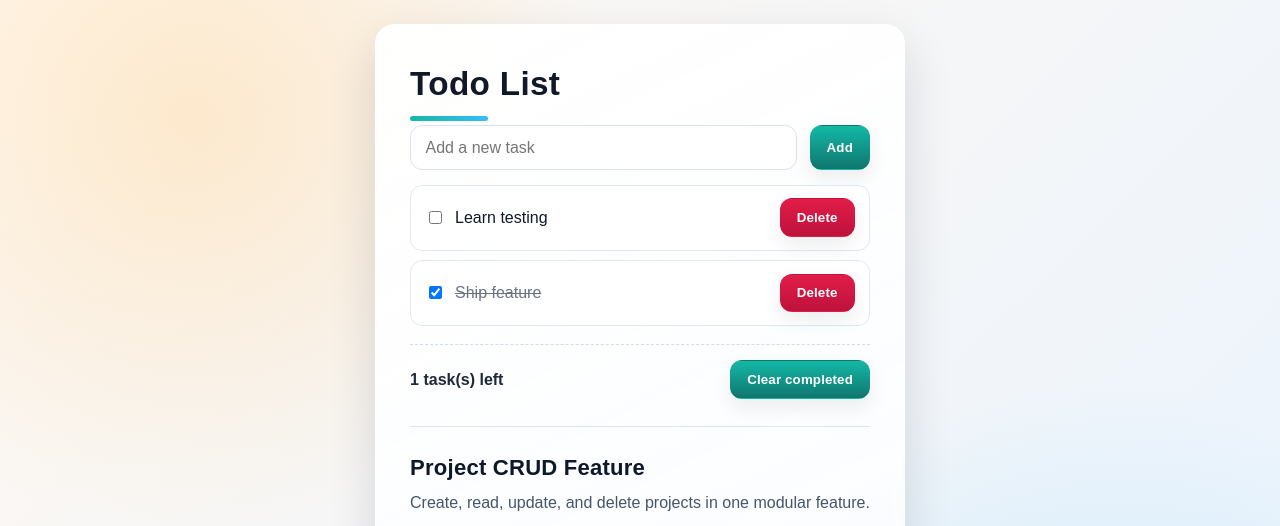
Scenario: App › validates minimum length
Expected: the text "Learn testing" is shown, left=455, top=206, right=548, bottom=230
Type "ab" into the field labelled "Add a new task" at (604, 148), box left=410, top=126, right=797, bottom=170
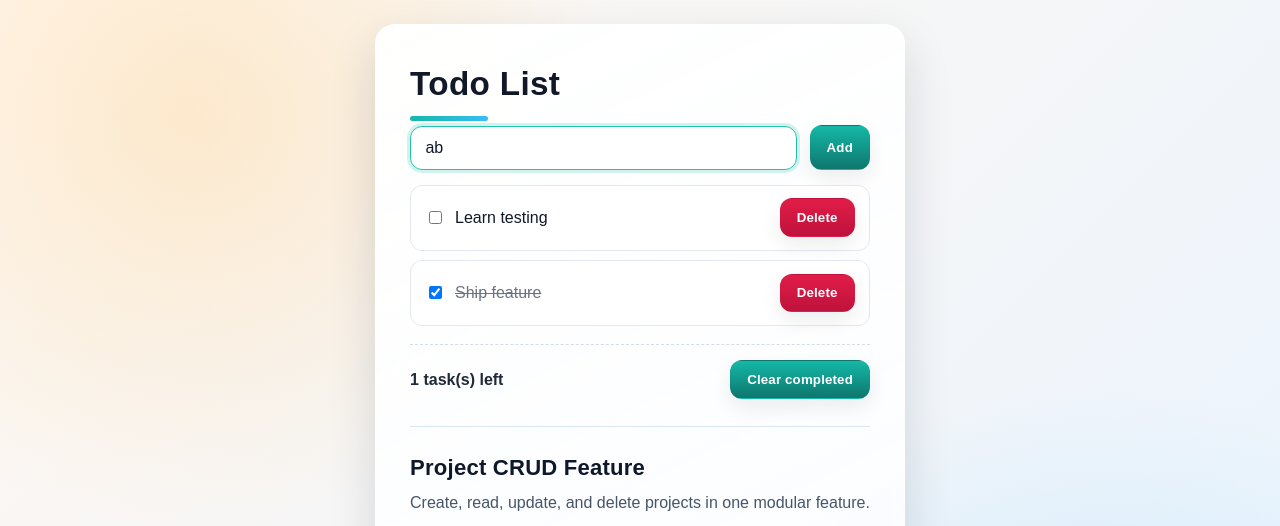
Click the button "Add" at (840, 148), box left=810, top=126, right=870, bottom=170
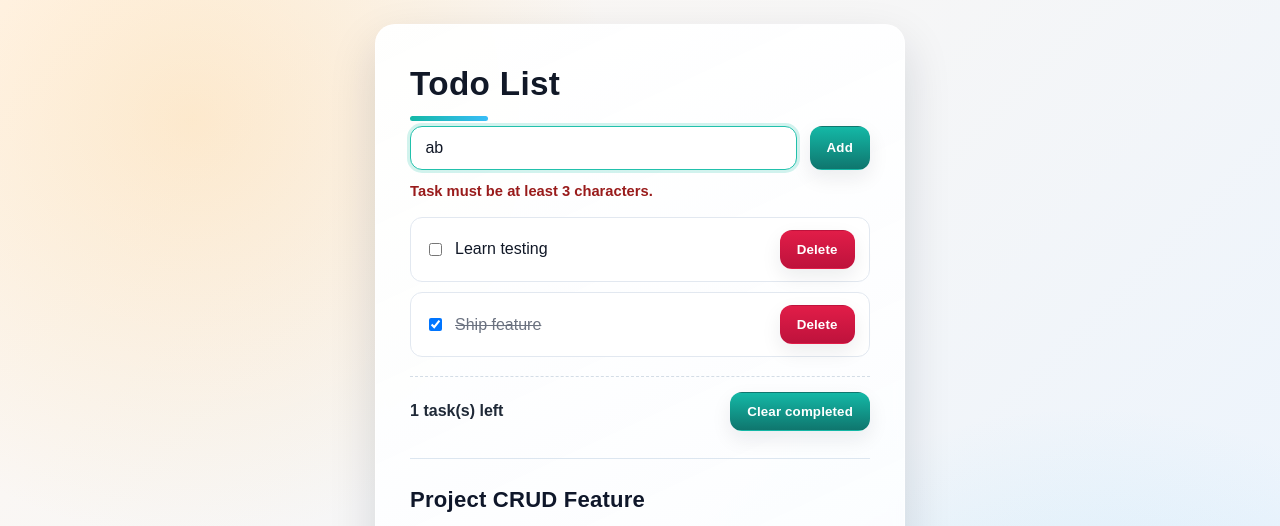
Now the text "Task must be at least 3 characters." is shown, box left=410, top=183, right=653, bottom=199
